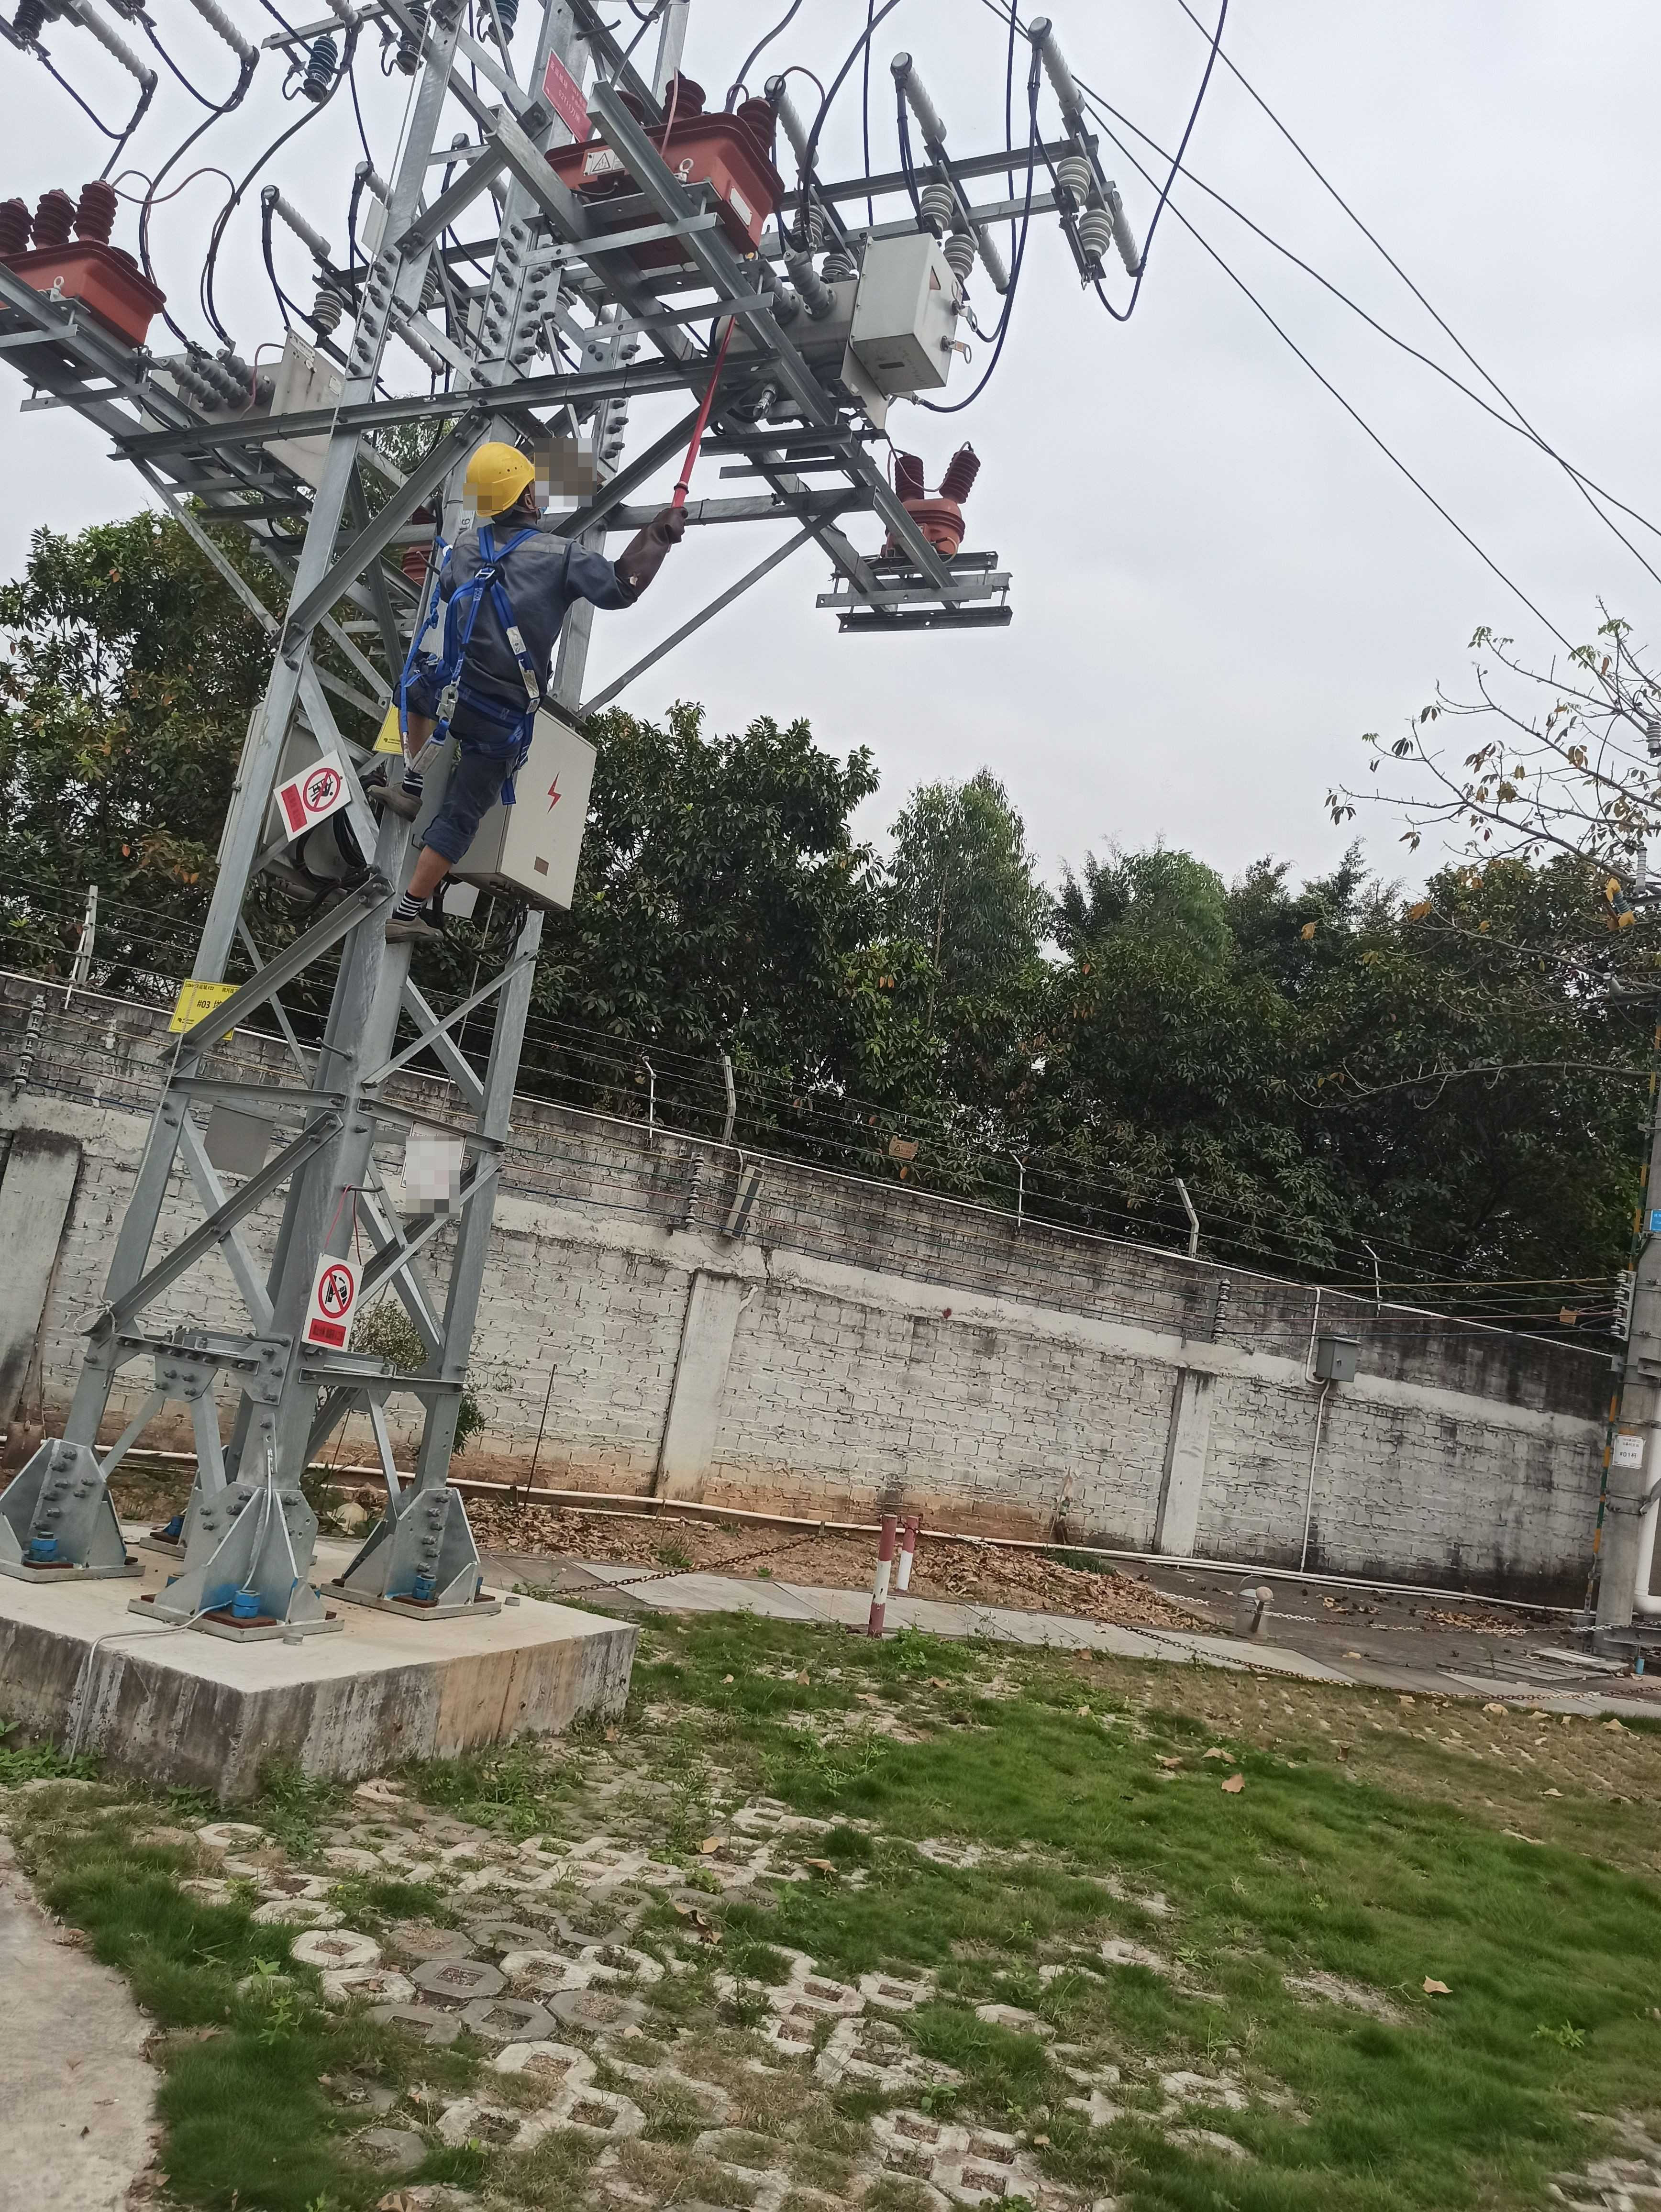wrongbottom: (407, 816, 469, 914), (396, 684, 434, 775)
